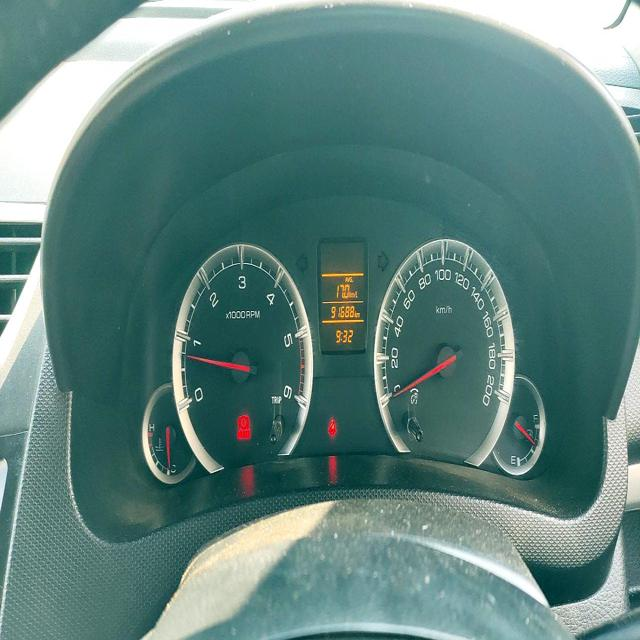odometer: (329, 303, 355, 321)
